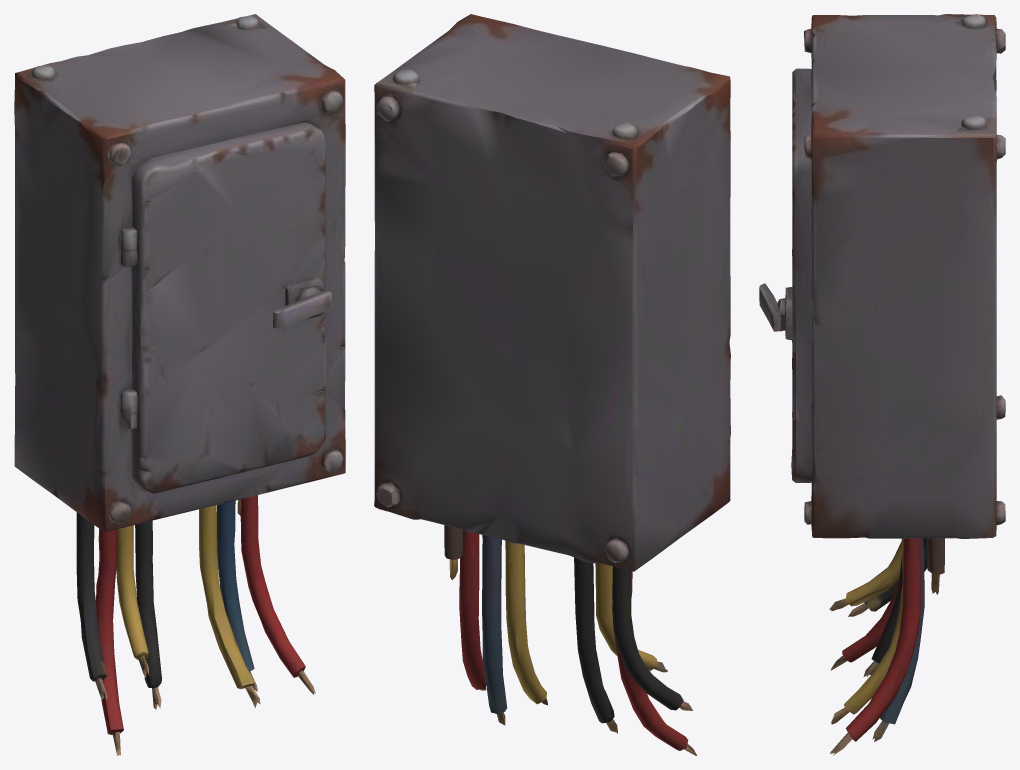
The model's file is fuse_box_bytovoy.glb.
3 renders of one model, left to right at view 1: azimuth 30°, elevation 25°; view 2: azimuth 150°, elevation 25°; view 3: azimuth 270°, elevation 25°, orthographic. The views are drawn at different scales.
Parts seen in each view (by area): view 1: body, door; view 2: body; view 3: body, door.
Part boxes in pixels (x1,y1,x2,y2): body: (14,14,345,755); door: (131,117,331,506); body: (374,14,730,755); body: (804,14,1005,755); door: (759,68,811,482).
Size of the model in its own units: 0.2018 by 0.4998 by 0.1716.
9 materials, 3 textured.
